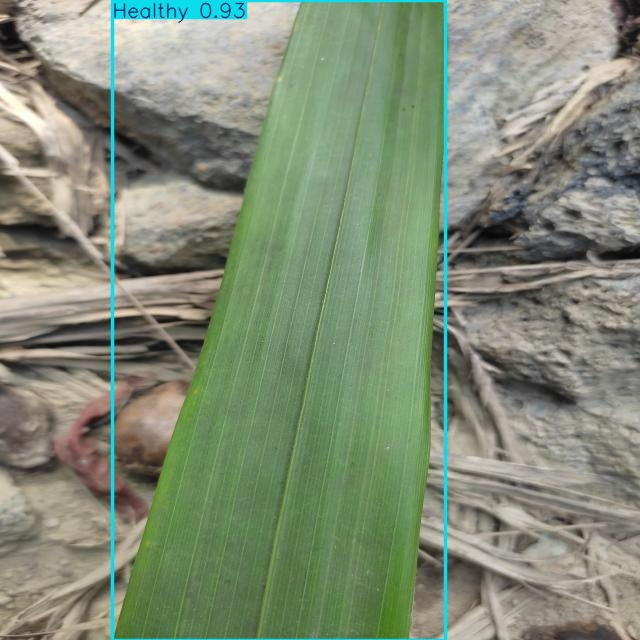Healthy: (112, 0, 446, 640)
